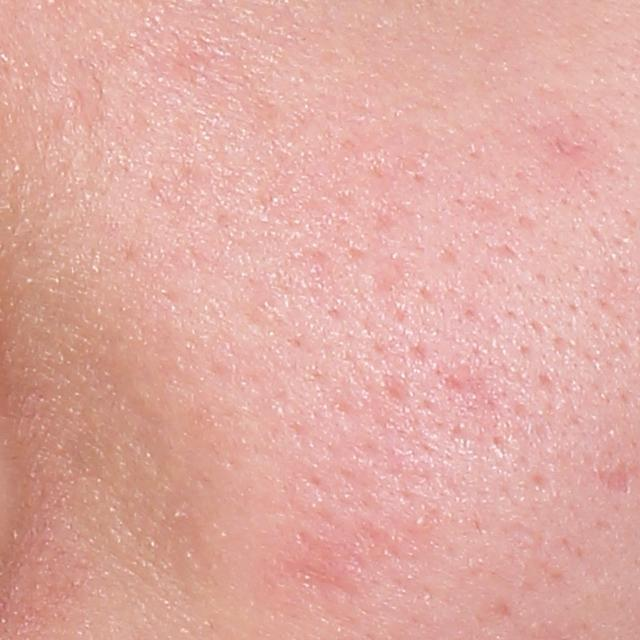atrophic_scar: (277, 557, 349, 589), (601, 461, 633, 496)
comedo: (408, 511, 429, 533)
